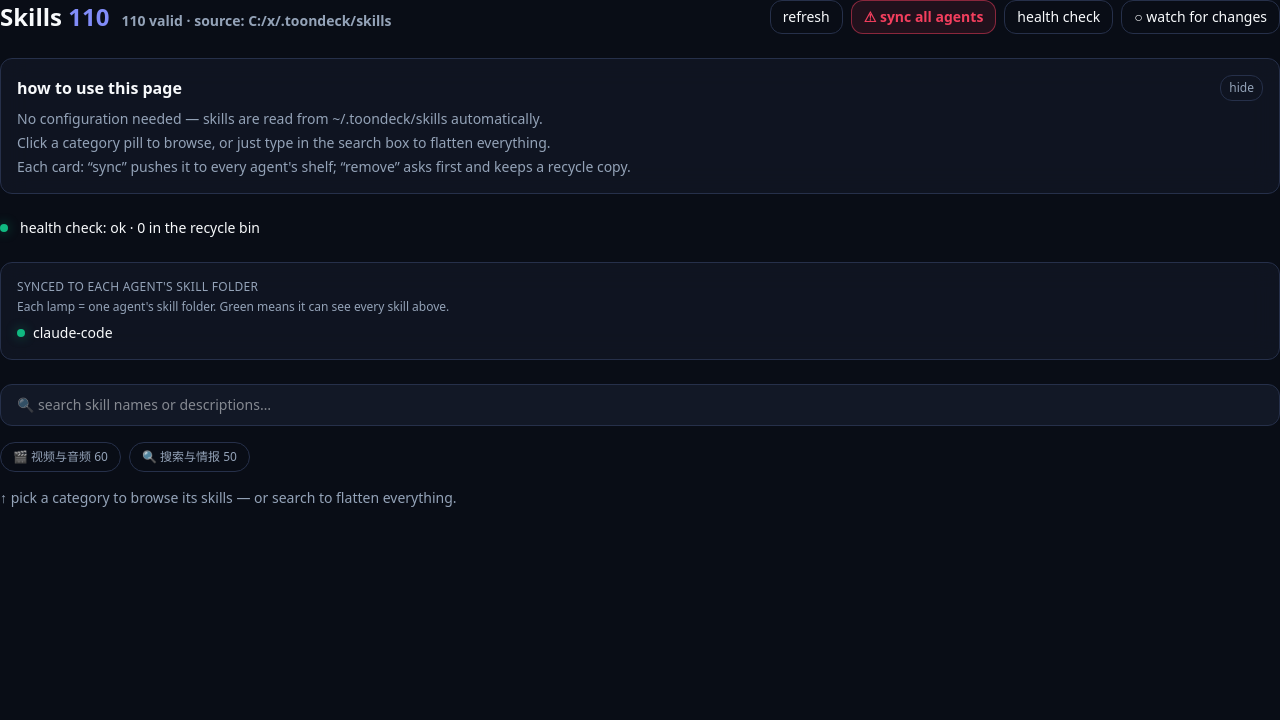
Test: N: progressive card windows › typing a query resets the flattened view window too
Click the button with test id "category-pill-🎬 视频与音频": x=60, y=457 0,442 -> 121,472
(page scrolled)
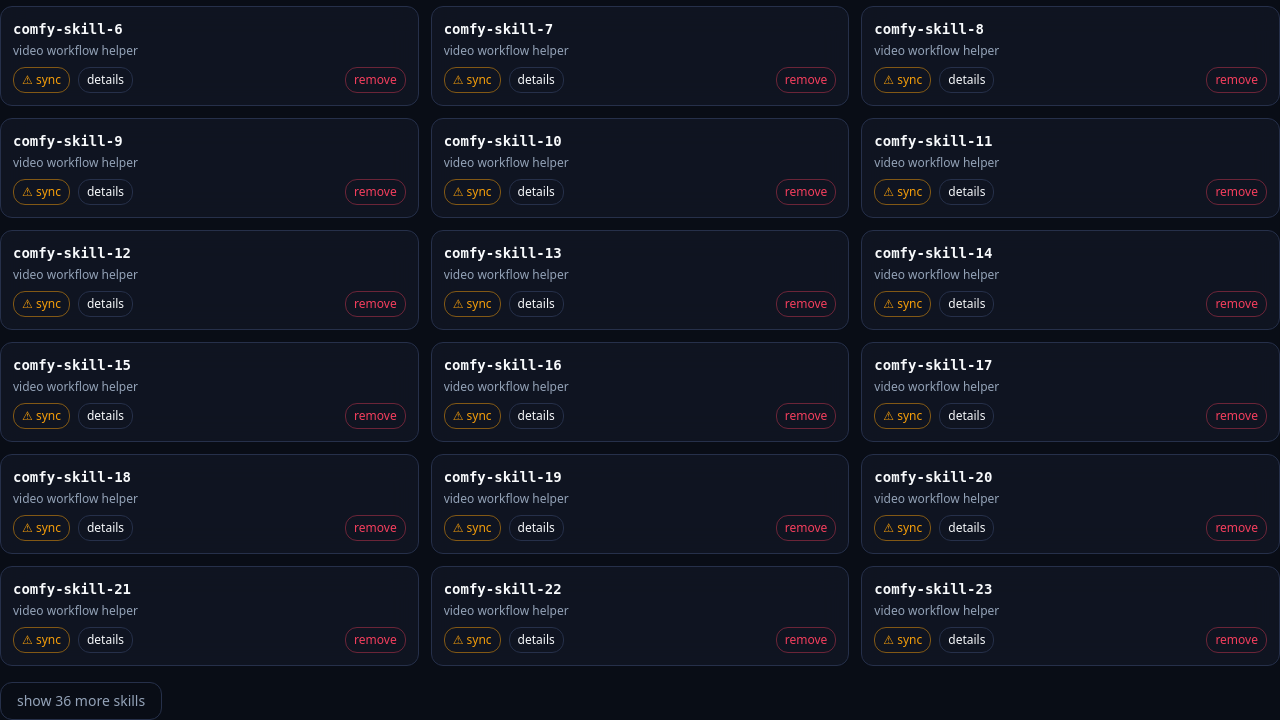
Click the button with test id "show-more-skills": x=81, y=701 0,682 -> 162,719
(page scrolled)
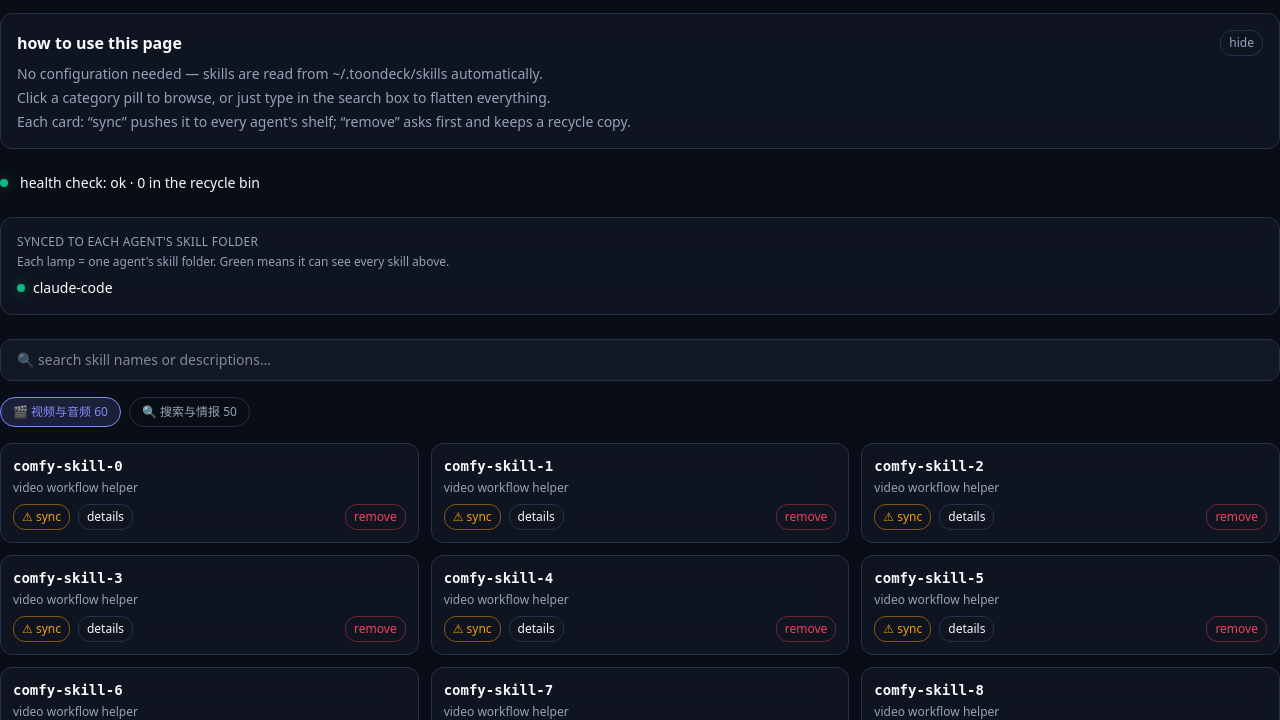
In the field with placeholder "🔍 search skill names or descriptions…": x=640, y=360 0,339 -> 1279,381, type "helper"
(page scrolled)
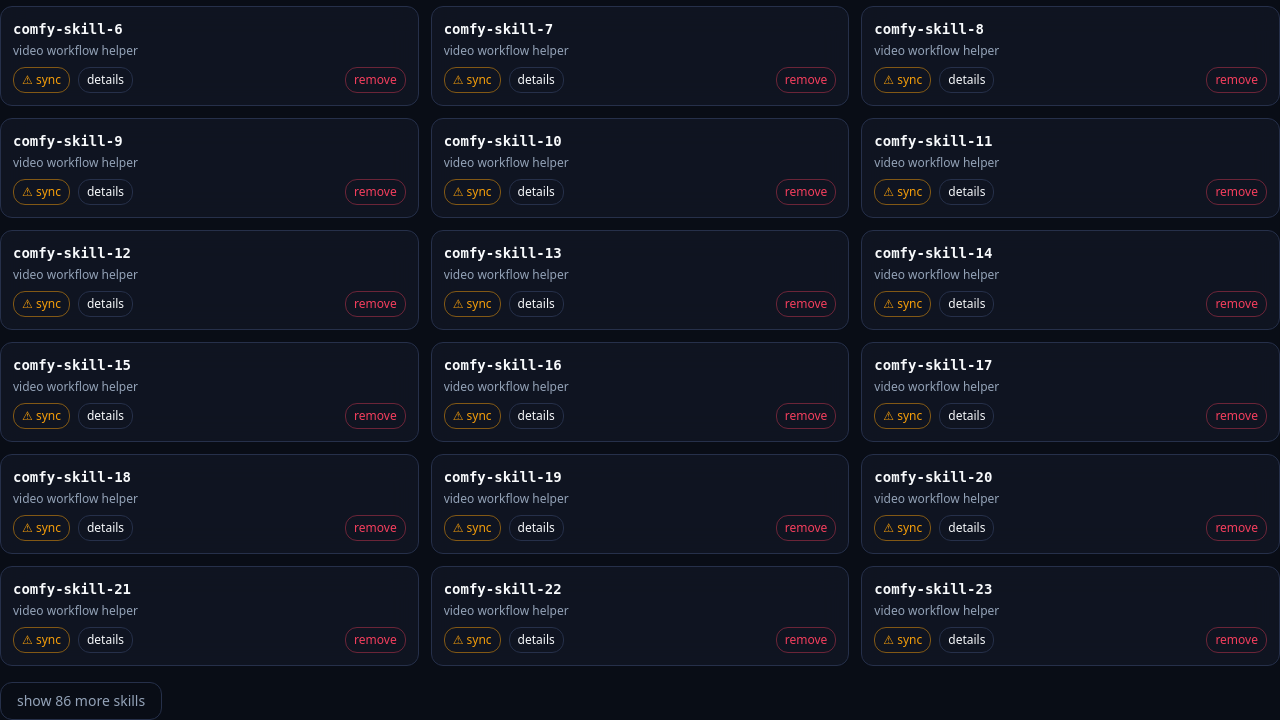
Now the button with test id "show-more-skills" shows "86", box 0,682 -> 162,719
